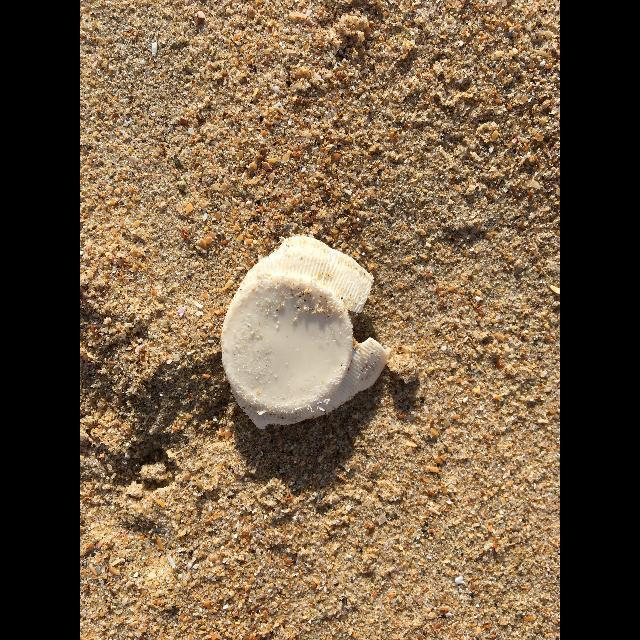Plastic: (221, 236, 389, 429)
